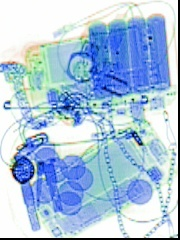powerbank: (86, 10, 173, 117)
